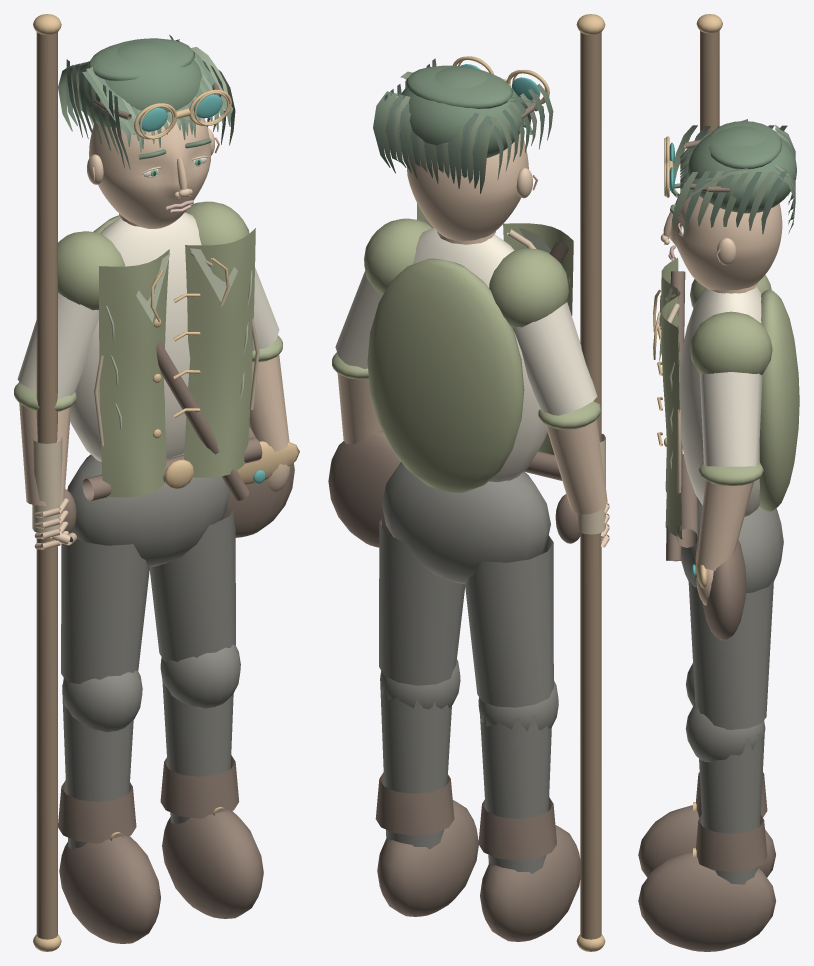
Rendered from Ender_ender_anatomy_v4.glb.
3 views of the same model, side by side, from view 1: azimuth 30°, elevation 25°; view 2: azimuth 150°, elevation 25°; view 3: azimuth 270°, elevation 25° (orthographic). The views are drawn at different scales.
Visible parts, largest first — view 1: Ender_lookdev; view 2: Ender_lookdev; view 3: Ender_lookdev.
Part boxes in pixels (bbox=[...]): Ender_lookdev: bbox=[14, 14, 299, 951]; Ender_lookdev: bbox=[328, 14, 609, 951]; Ender_lookdev: bbox=[638, 14, 799, 951].
Bounding box in the file's own units: 0.5632 × 1.86 × 0.316.
